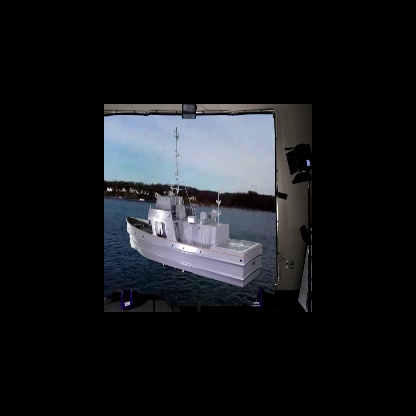YP689: (126, 127, 262, 289)
